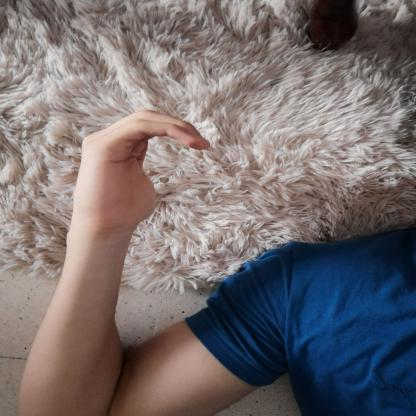HAA: (58, 101, 224, 237)
